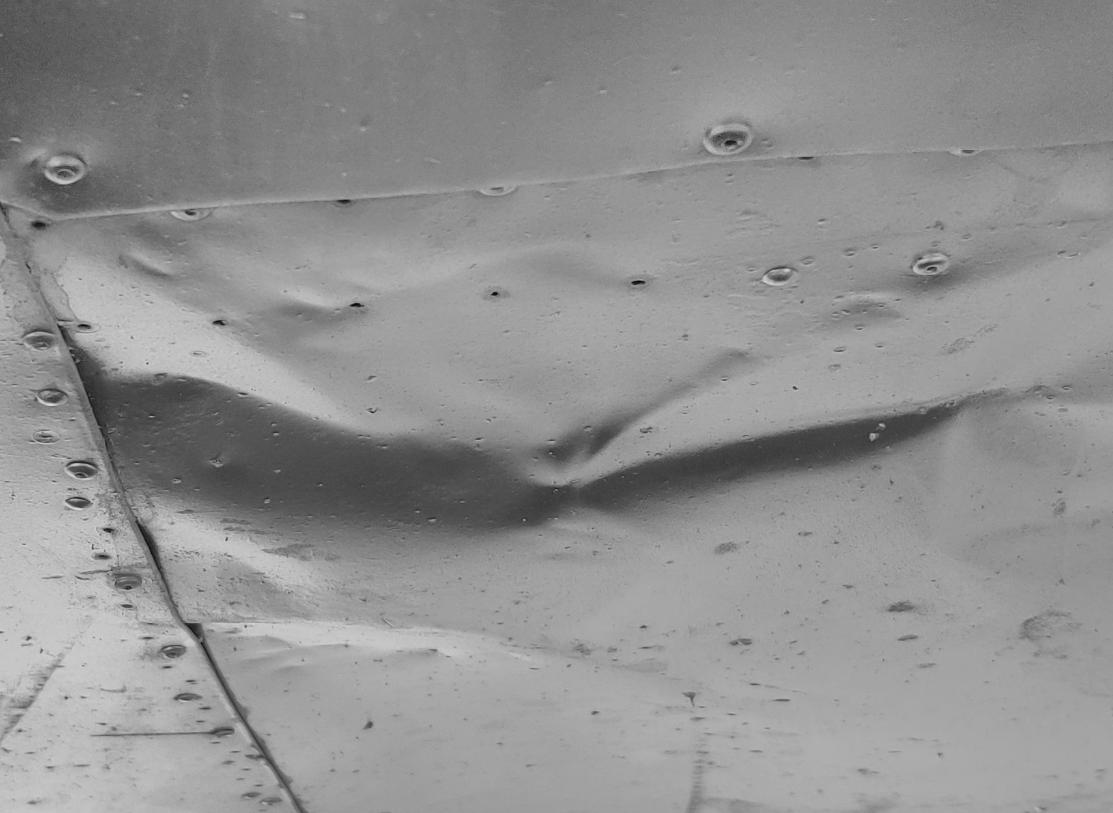dent: (1, 1, 1113, 813)
